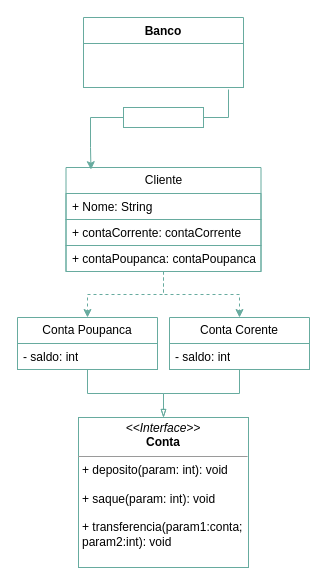
Some shapes in this 327 by 585 pixel diagram are drawn without their labels. Here are the shapes that lost their labels. From the top down, the centre of each, then its label:
At (x=163, y=65): "+ listaClientes<Cliente>: ArrayList<>".
At (x=163, y=117): "Manipula".
